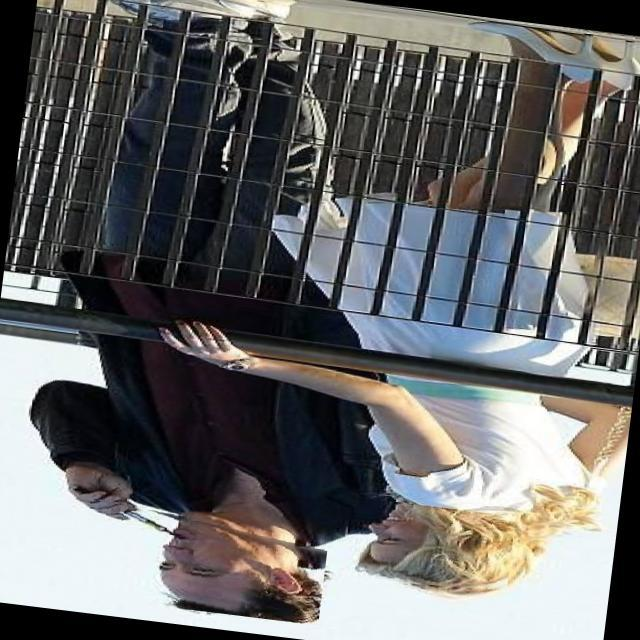cigarette: (77, 498, 192, 538)
